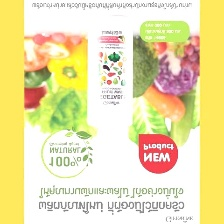insecticide: (83, 12, 135, 148)
